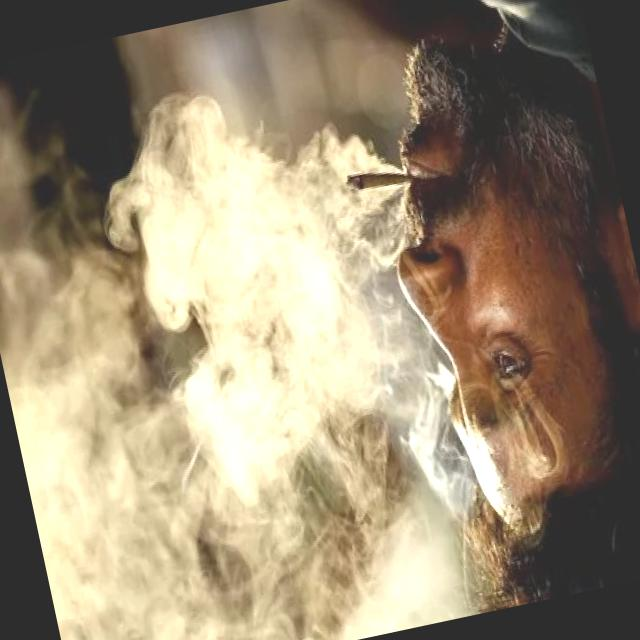cigarette: (344, 159, 421, 203)
